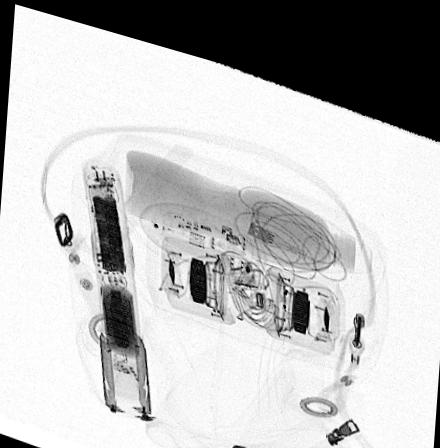Baton: (82, 148, 155, 416)
